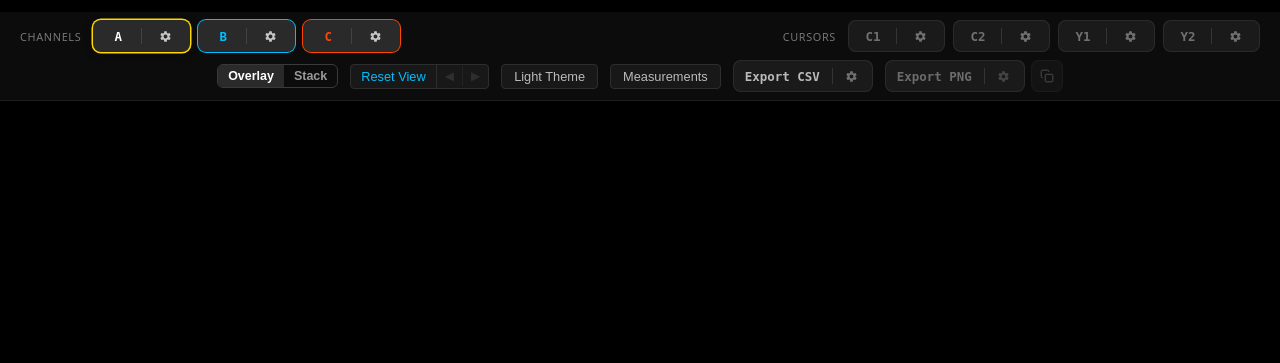
Test: MeasurementsTable (browser) - Issue #278 › toggles table via Measurements toolbar button and closes via close button
This screenshot has width=1280, height=363.
Click the button with test id "measurements-toggle-button" at coordinates (665, 76), box [610,64,721,88]
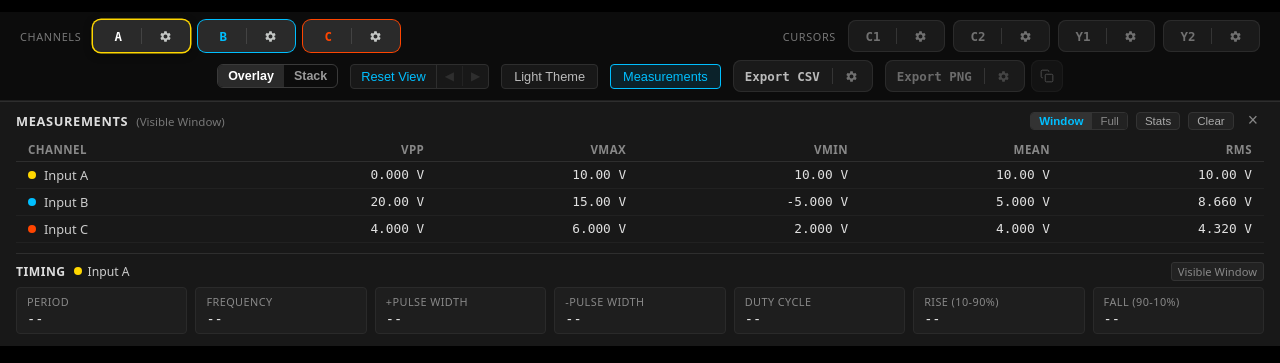
Expected: the element with test id "amplitude-measurements-panel" is shown
Expected: the button with test id "measurements-close-button" is shown
Click the button with test id "measurements-close-button" at coordinates (1253, 121), box [1242,110,1264,132]
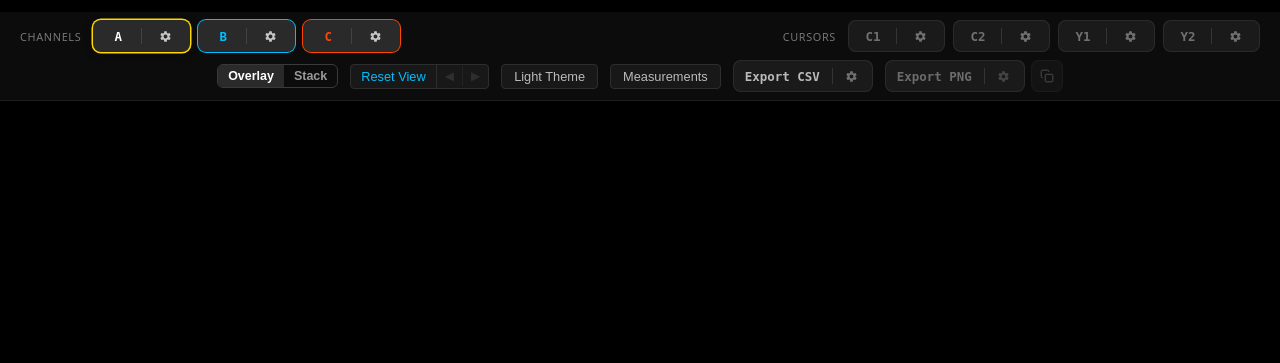
Expected: the element with test id "amplitude-measurements-panel" is gone
